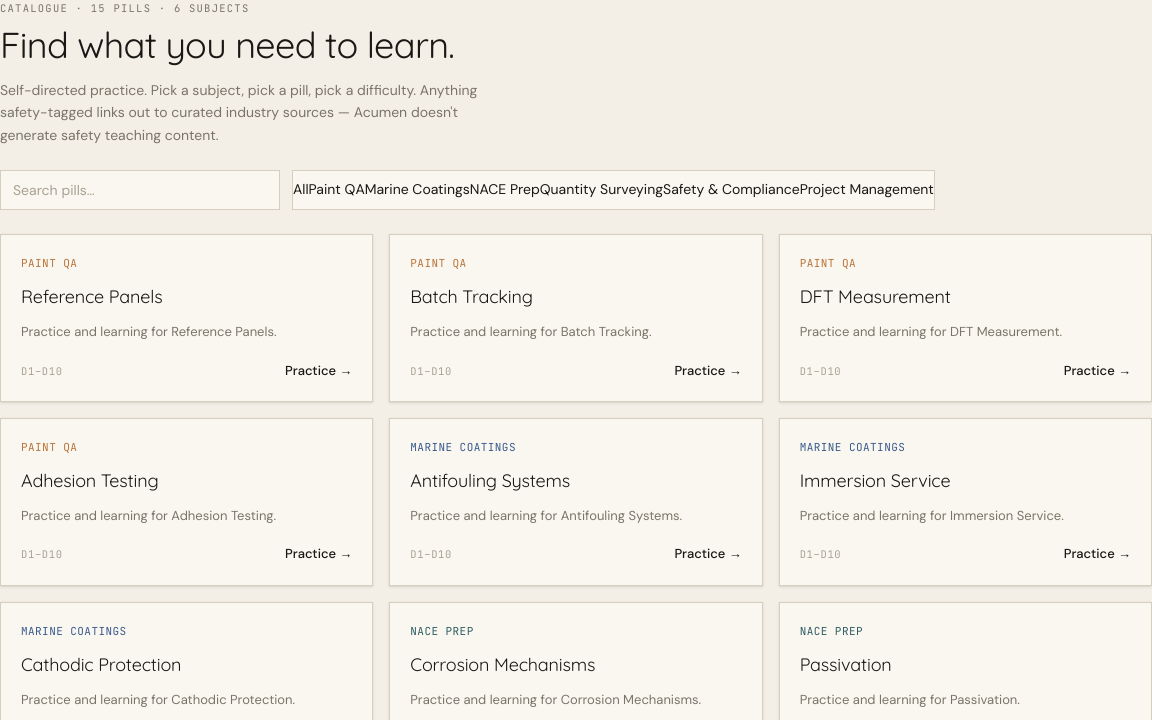
Test: Catalogue page › subject click updates the URL immediately (no debounce)
This screenshot has width=1152, height=720.
Expected: the heading "Antifouling Systems" is shown, [410,469,570,492]
Click the button with test id "catalogue-subject-marine". click: (417, 190)
box: [365,179,470,201]
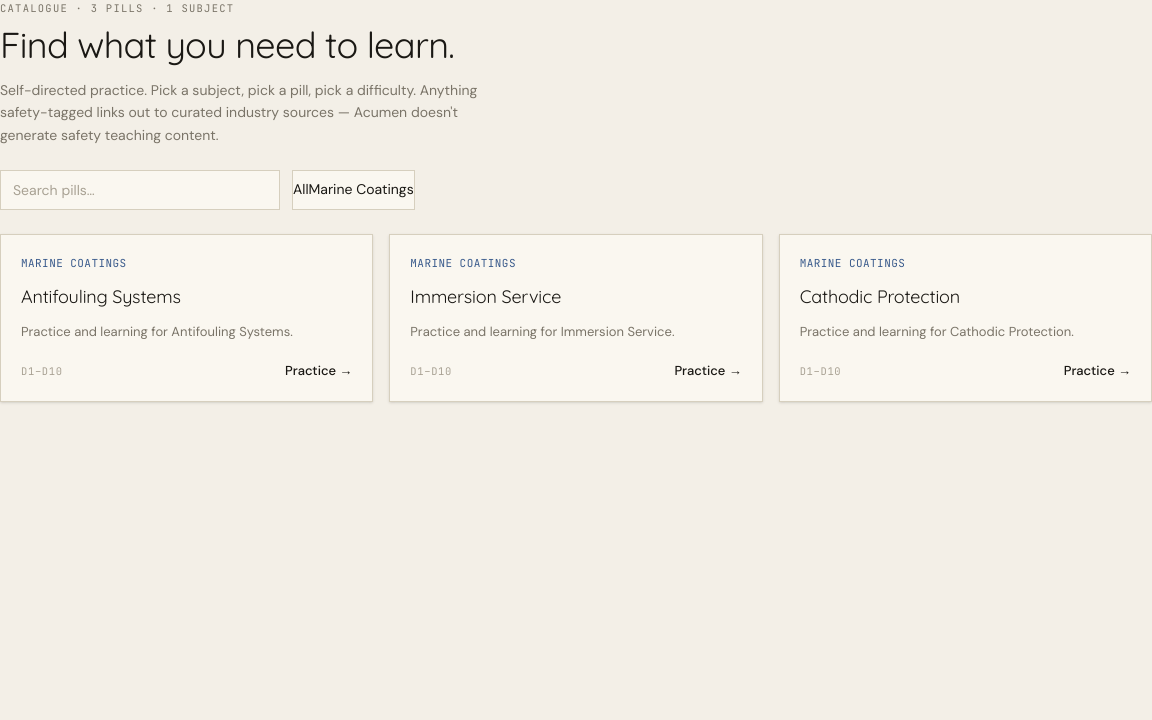
Expected: the heading "Antifouling Systems" is shown, [21,285,181,308]
Result: the heading "Reference Panels" is gone
